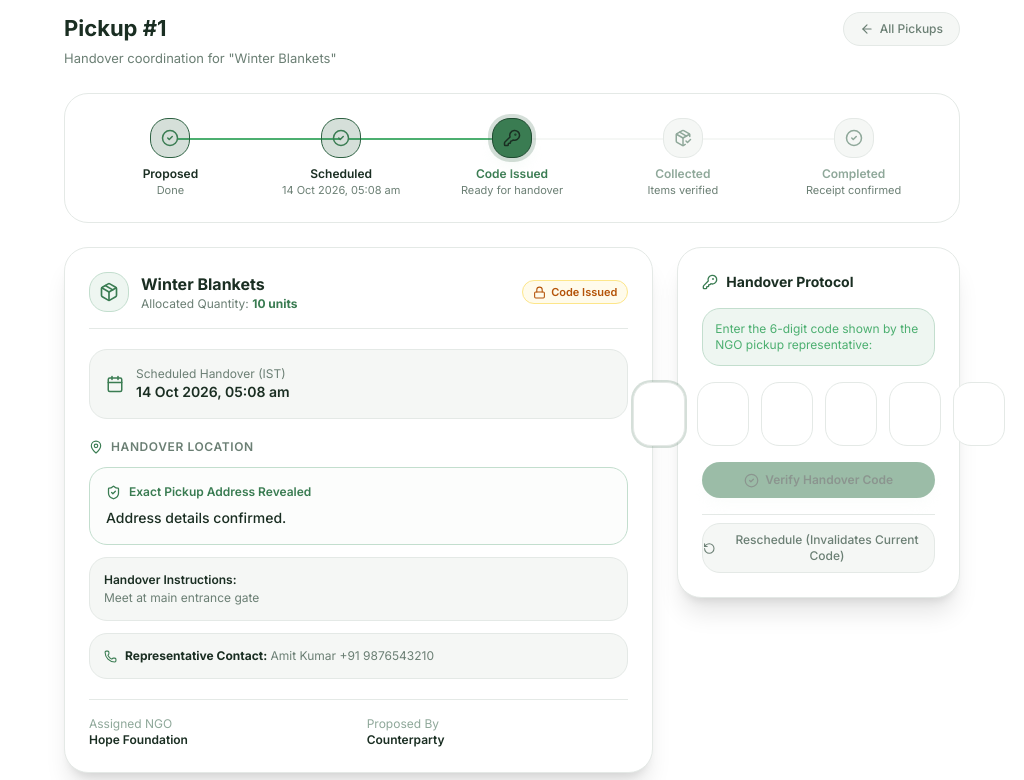
Phase 15: Pickups, OTP Verification & Notification Centre › T-15.1-06: wrong OTP returns error and displays attempts remaining
Type "1" into the field named "Digit 1 of 6" at (659, 414), box x1=633 y1=382 x2=685 y2=446
Type "1" into the field named "Digit 2 of 6" at (723, 414), box x1=697 y1=382 x2=749 y2=446
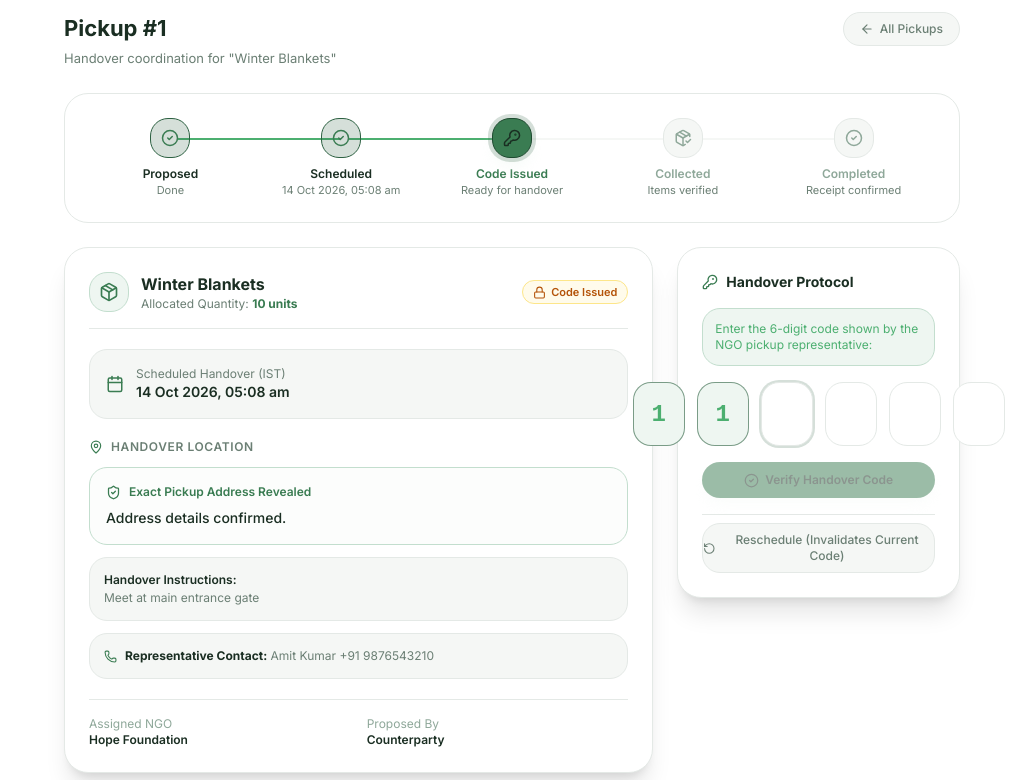
Type "1" into the field named "Digit 3 of 6" at (787, 414), box x1=761 y1=382 x2=813 y2=446
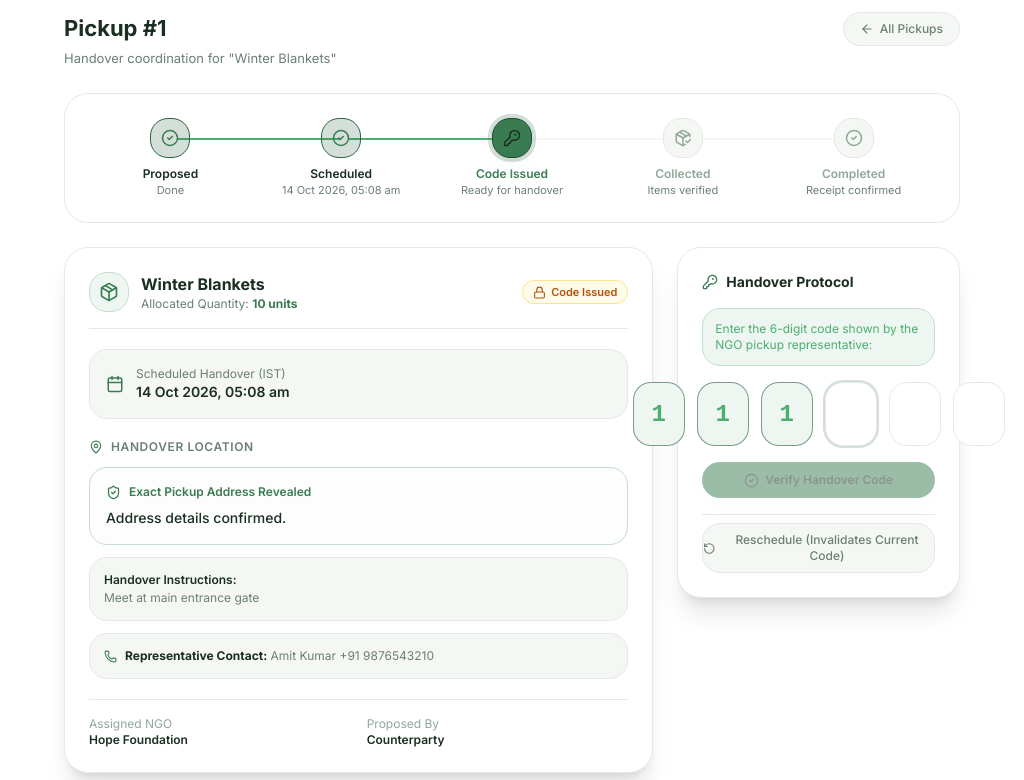
Type "1" into the field named "Digit 4 of 6" at (851, 414), box x1=825 y1=382 x2=877 y2=446
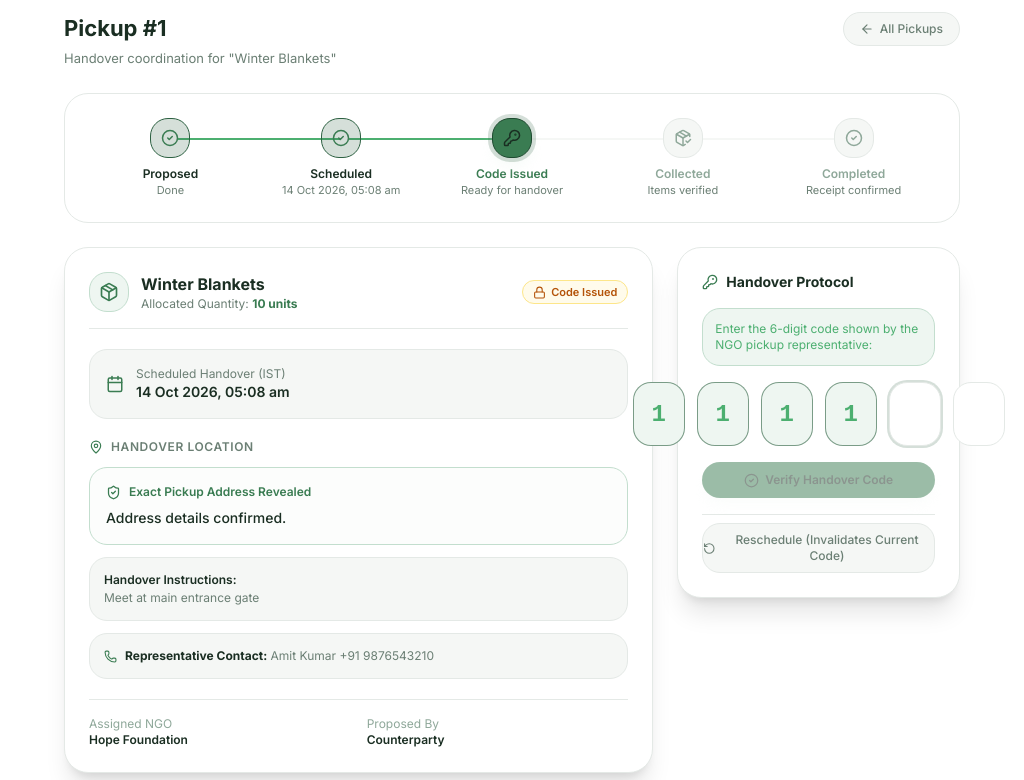
Type "1" into the field named "Digit 5 of 6" at (915, 414), box x1=889 y1=382 x2=941 y2=446
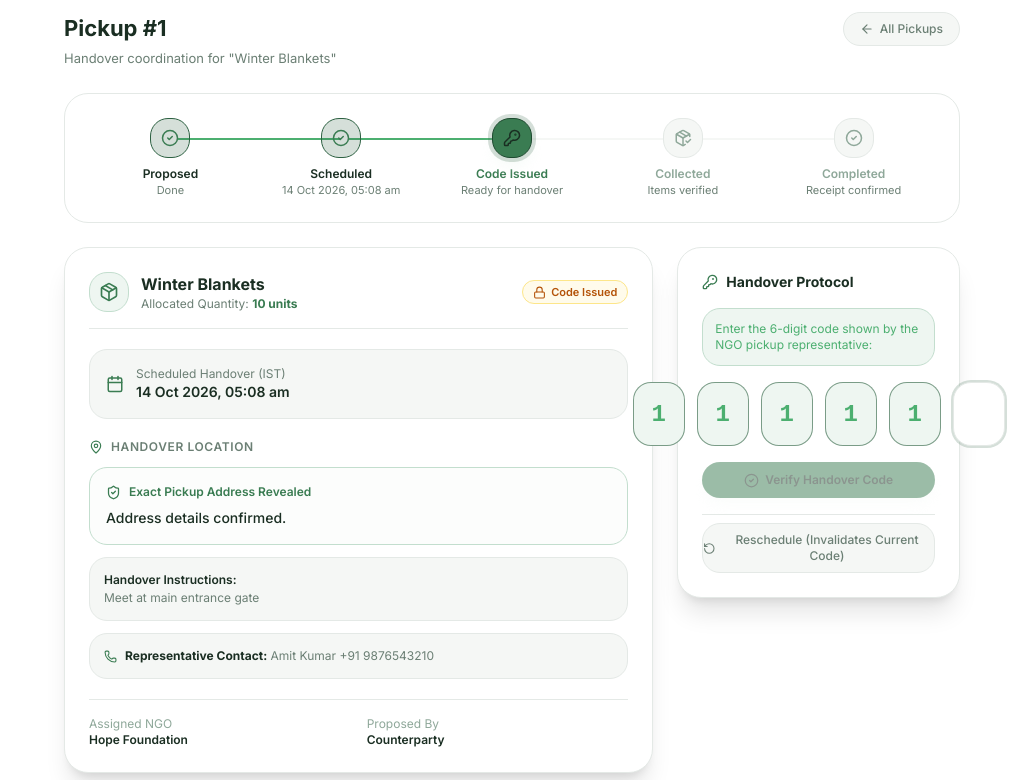
Type "1" into the field named "Digit 6 of 6" at (979, 414), box x1=953 y1=382 x2=1005 y2=446
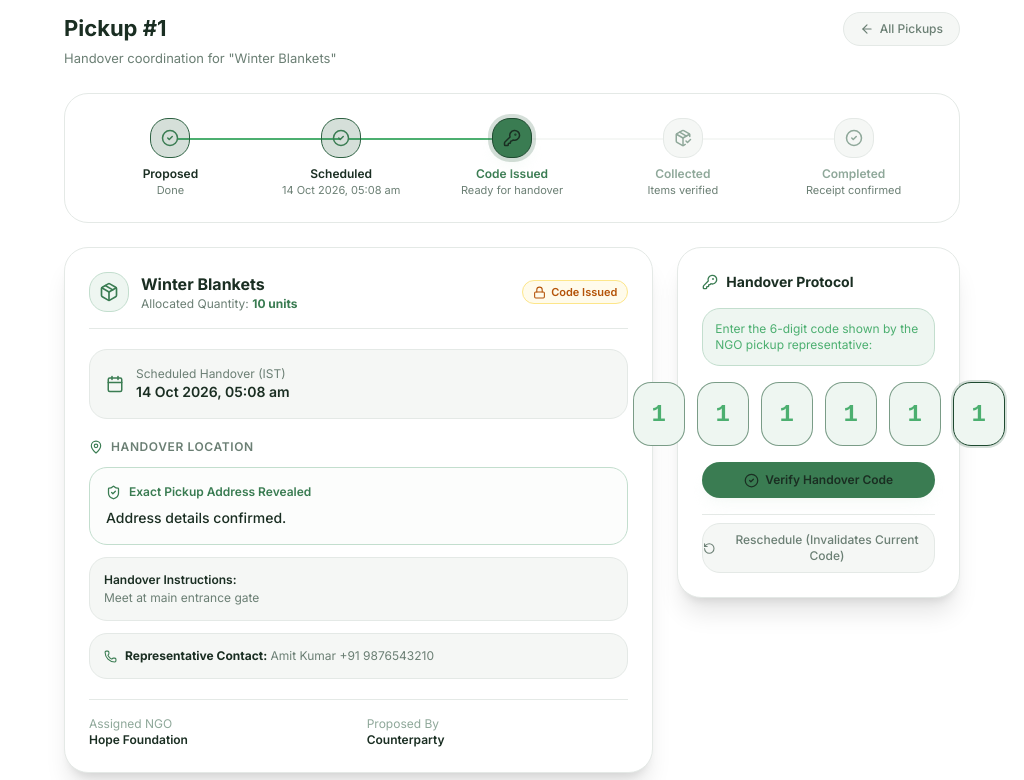
Click the button "Verify Handover Code" at (819, 480), box x1=702 y1=462 x2=935 y2=498
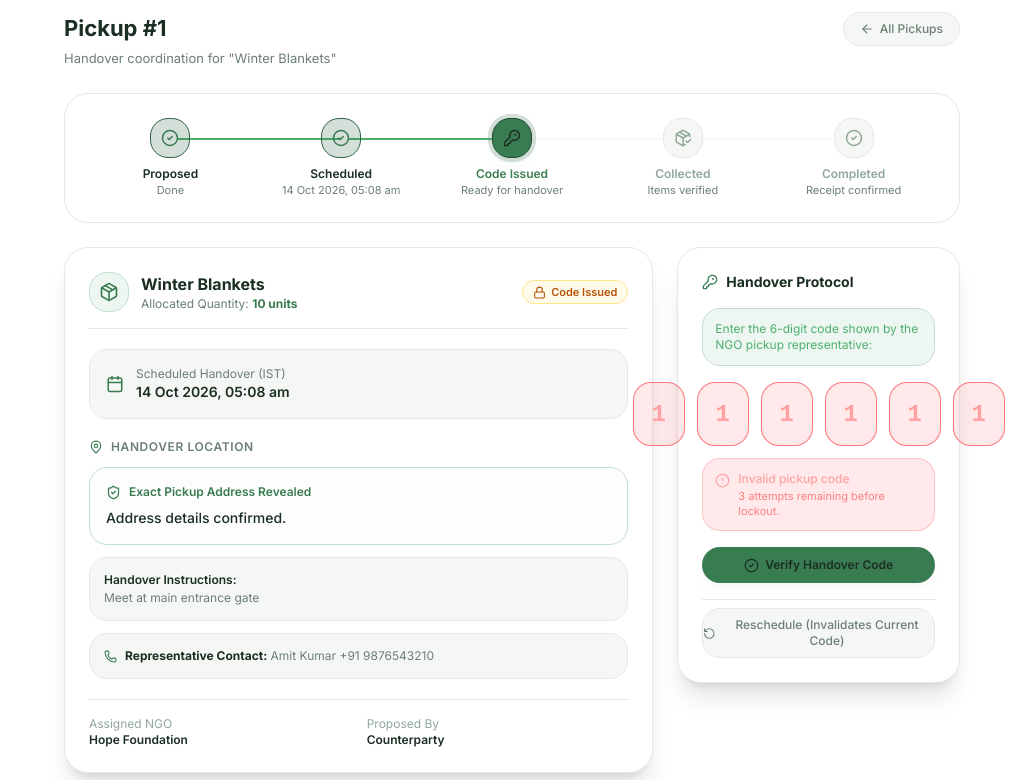
Now the text "Invalid pickup code" is shown, box x1=738 y1=471 x2=850 y2=486
Now the text "3 attempts remaining before lockout." is shown, box x1=738 y1=489 x2=885 y2=518
